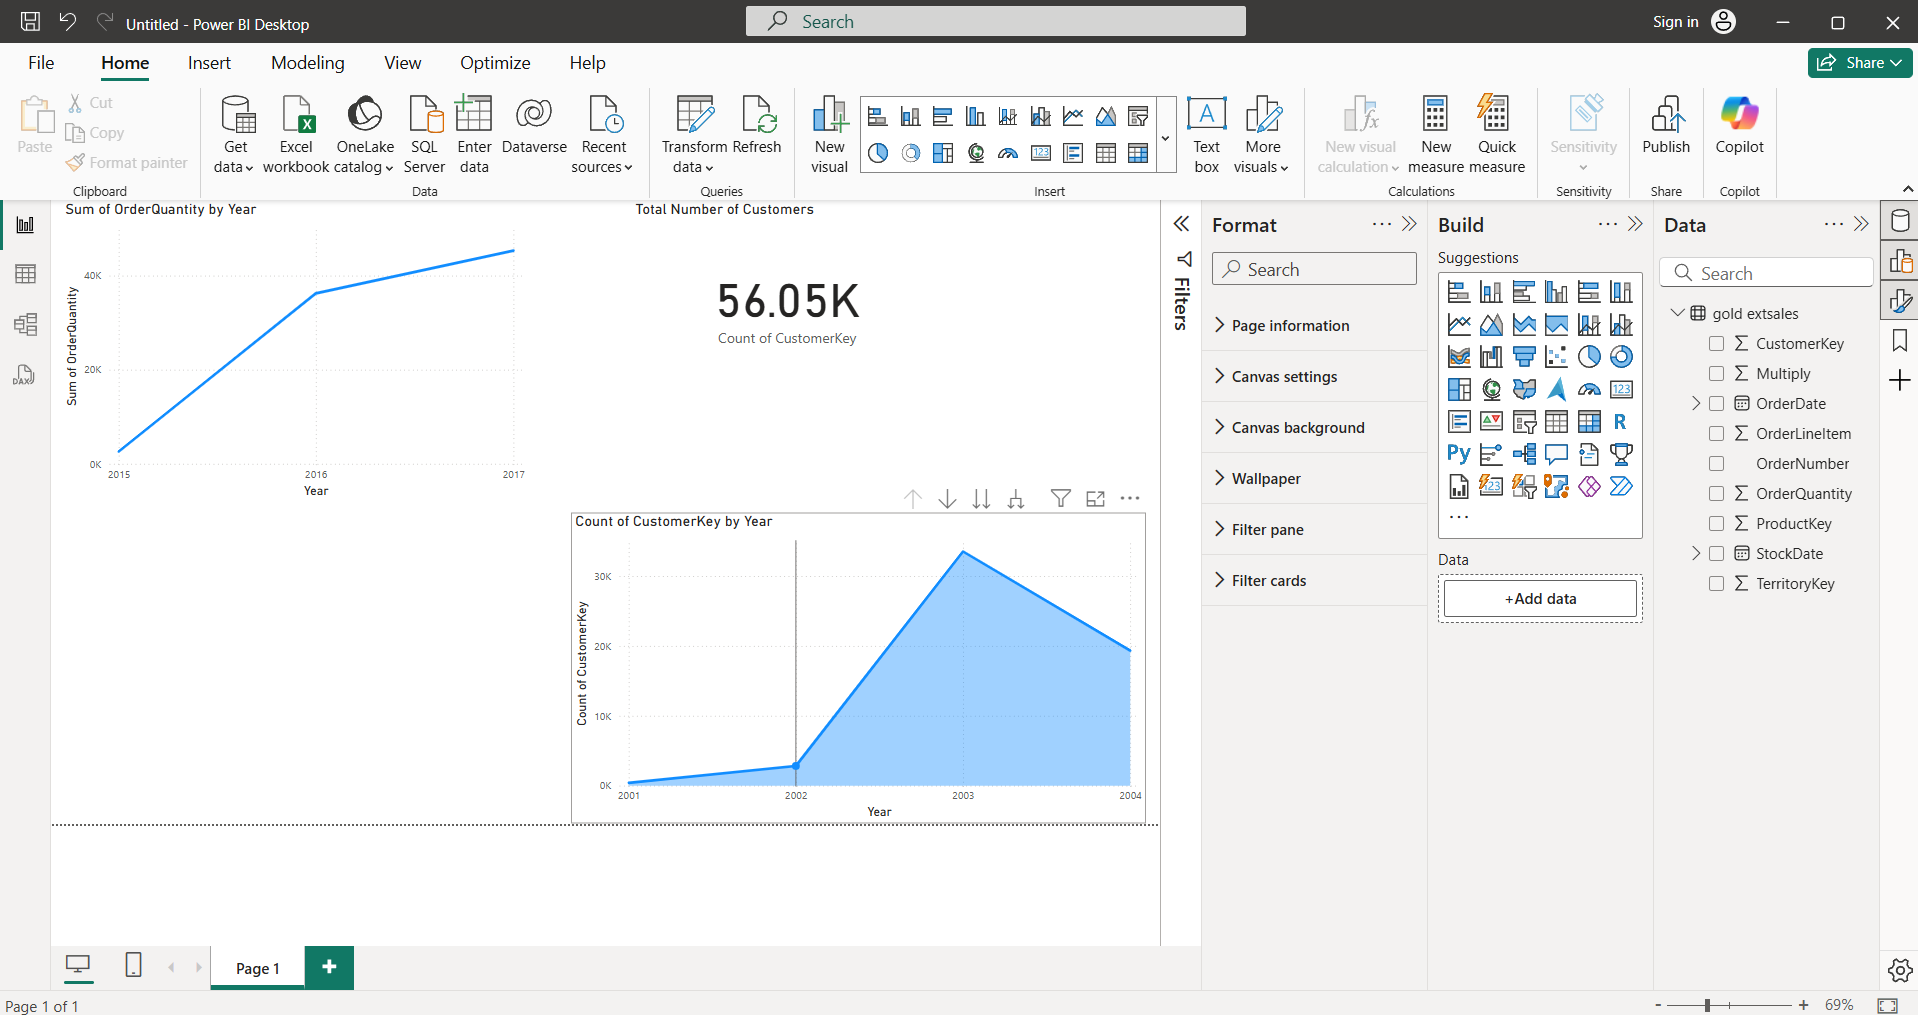

This screenshot's page, from the dashboard's own definition file:
{"tool":"powerbi","page":{"name":"Page 1","canvas":[1280,720],"ordinal":0},"visuals":[{"type":"lineChart","fields":{"Category":["gold extsales.OrderDate.Variation.Date Hierarchy.Year","gold extsales.OrderDate.Variation.Date Hierarchy.Quarter","gold extsales.OrderDate.Variation.Date Hierarchy.Month","gold extsales.OrderDate.Variation.Date Hierarchy.Day"],"Y":["Sum(gold extsales.OrderQuantity)"]},"box":[11.4,0,540.4,348.4],"z":0},{"type":"card","title":"Total Number of Customers","fields":{"Values":["CountNonNull(gold extsales.CustomerKey)"]},"box":[668.9,0,360.7,221.3],"z":1},{"type":"areaChart","fields":{"Category":["gold extsales.StockDate.Variation.Date Hierarchy.Year","gold extsales.StockDate.Variation.Date Hierarchy.Quarter","gold extsales.StockDate.Variation.Date Hierarchy.Month","gold extsales.StockDate.Variation.Date Hierarchy.Day"],"Y":["CountNonNull(gold extsales.CustomerKey)"]},"box":[600.2,360.7,663.7,359.2],"z":2}]}

Visuals, with their boxes on the page's 1280x720 design canvas (x1, y1, x2, y2). These are canvas units, not pixel positions in the 1918x1015 screenshot, which may show the page scaled, cropped or inside an application window:
lineChart - gold extsales.OrderDate.Variation.Date Hierarchy.Year x gold extsales.OrderDate.Variation.Date Hierarchy.Quarter: [11,0,552,348]
"Total Number of Customers" card: [669,0,1030,221]
areaChart - gold extsales.StockDate.Variation.Date Hierarchy.Year x gold extsales.StockDate.Variation.Date Hierarchy.Quarter: [600,361,1264,720]
